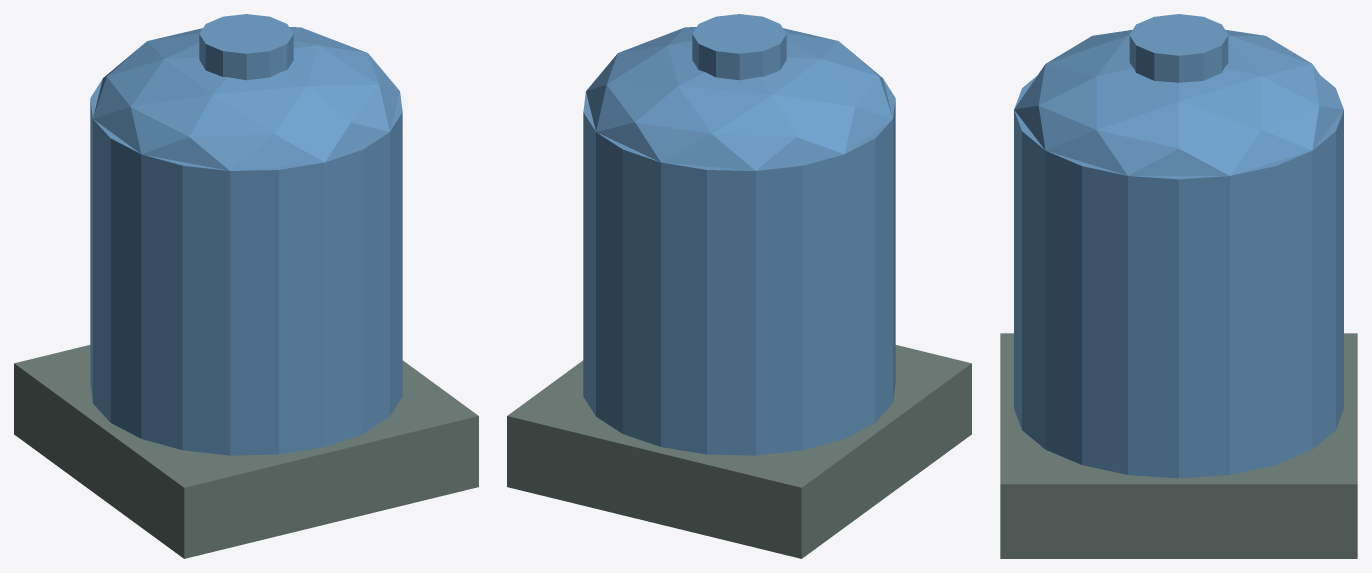
Rendered from water_tank_plastic.glb.
The picture shows the model from 3 angles, left to right: view 1: azimuth 30°, elevation 25°; view 2: azimuth 150°, elevation 25°; view 3: azimuth 270°, elevation 25°; orthographic projection. The views are drawn at different scales.
Visible parts, largest first — view 1: water_tank_plastic; view 2: water_tank_plastic; view 3: water_tank_plastic.
Part boxes in pixels (x1,y1,x2,y2): water_tank_plastic: (14,14,478,558); water_tank_plastic: (507,14,971,558); water_tank_plastic: (1000,14,1357,558).
Bounding box in the file's own units: 1.3 × 1.8 × 1.3.
